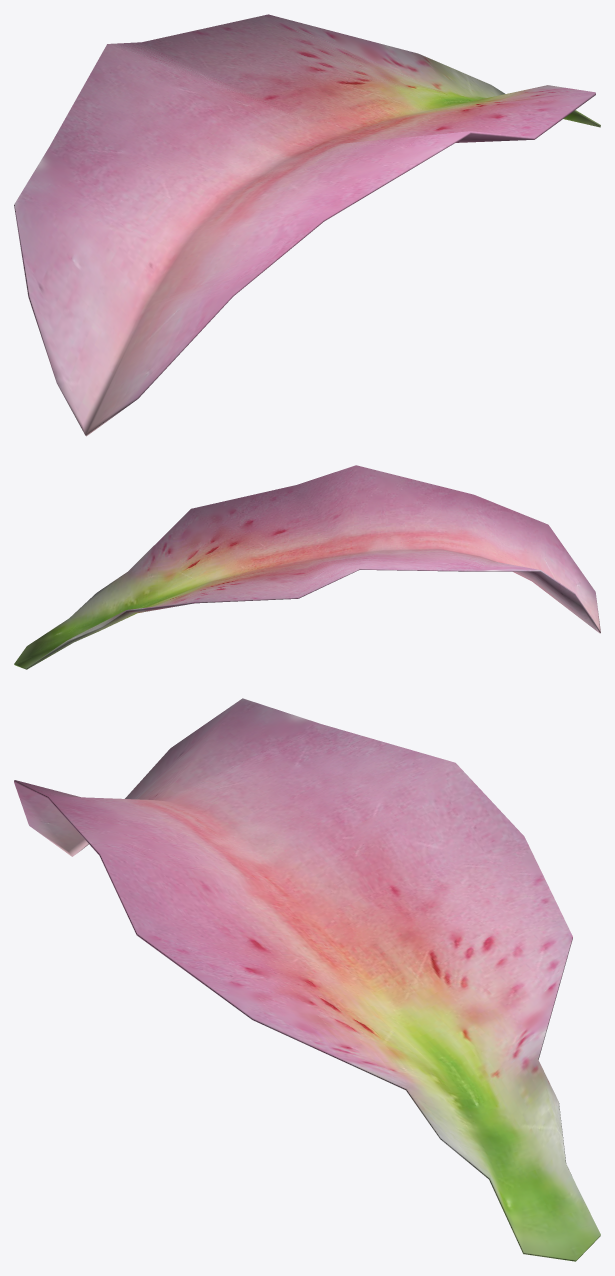
File: Lily_PetalB_1.gltf
The picture shows the model from 3 angles, top to bottom: view 1: azimuth 30°, elevation 25°; view 2: azimuth 150°, elevation 25°; view 3: azimuth 270°, elevation 25°; orthographic projection. The views are drawn at different scales.
Visible parts, largest first — view 1: PetalB.001; view 2: PetalB.001; view 3: PetalB.001.
Boxes of the visible parts, x1,y1,x2,y2 form: PetalB.001: (14,14,600,436); PetalB.001: (14,465,600,669); PetalB.001: (14,698,600,1261).
Size of the model in its own units: 4.03 by 1.27 by 2.75.
1 material, 1 textured.
